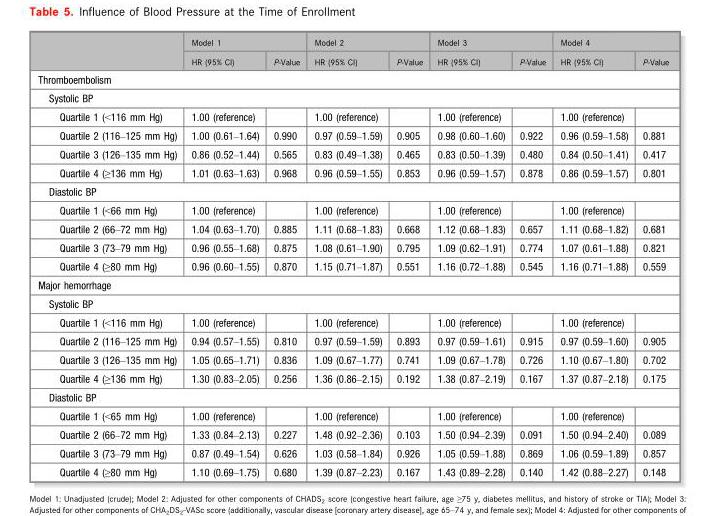table: (37, 36, 668, 477)
table column: (37, 36, 183, 477), (183, 36, 265, 477), (306, 36, 388, 477), (429, 36, 511, 477), (552, 36, 634, 477), (265, 36, 306, 477), (388, 36, 429, 477), (511, 36, 552, 477), (634, 36, 668, 477)
table column header: (37, 36, 668, 69)
table projected row header: (37, 69, 668, 88), (37, 181, 668, 200), (37, 293, 668, 312), (37, 88, 668, 106), (37, 275, 668, 293), (37, 387, 668, 405)
table row: (37, 69, 668, 88), (37, 106, 668, 125), (37, 125, 668, 144), (37, 162, 668, 181), (37, 181, 668, 200), (37, 200, 668, 219), (37, 237, 668, 256), (37, 256, 668, 275), (37, 293, 668, 312), (37, 312, 668, 331), (37, 349, 668, 368), (37, 368, 668, 387), (37, 405, 668, 424), (37, 424, 668, 443), (37, 443, 668, 462), (37, 51, 668, 69), (37, 88, 668, 106), (37, 144, 668, 162), (37, 219, 668, 237), (37, 275, 668, 293), (37, 331, 668, 349), (37, 387, 668, 405), (37, 36, 668, 51), (37, 462, 668, 477)
table spanning cell: (183, 36, 306, 51), (306, 36, 429, 51), (429, 36, 552, 51), (552, 36, 668, 51)
